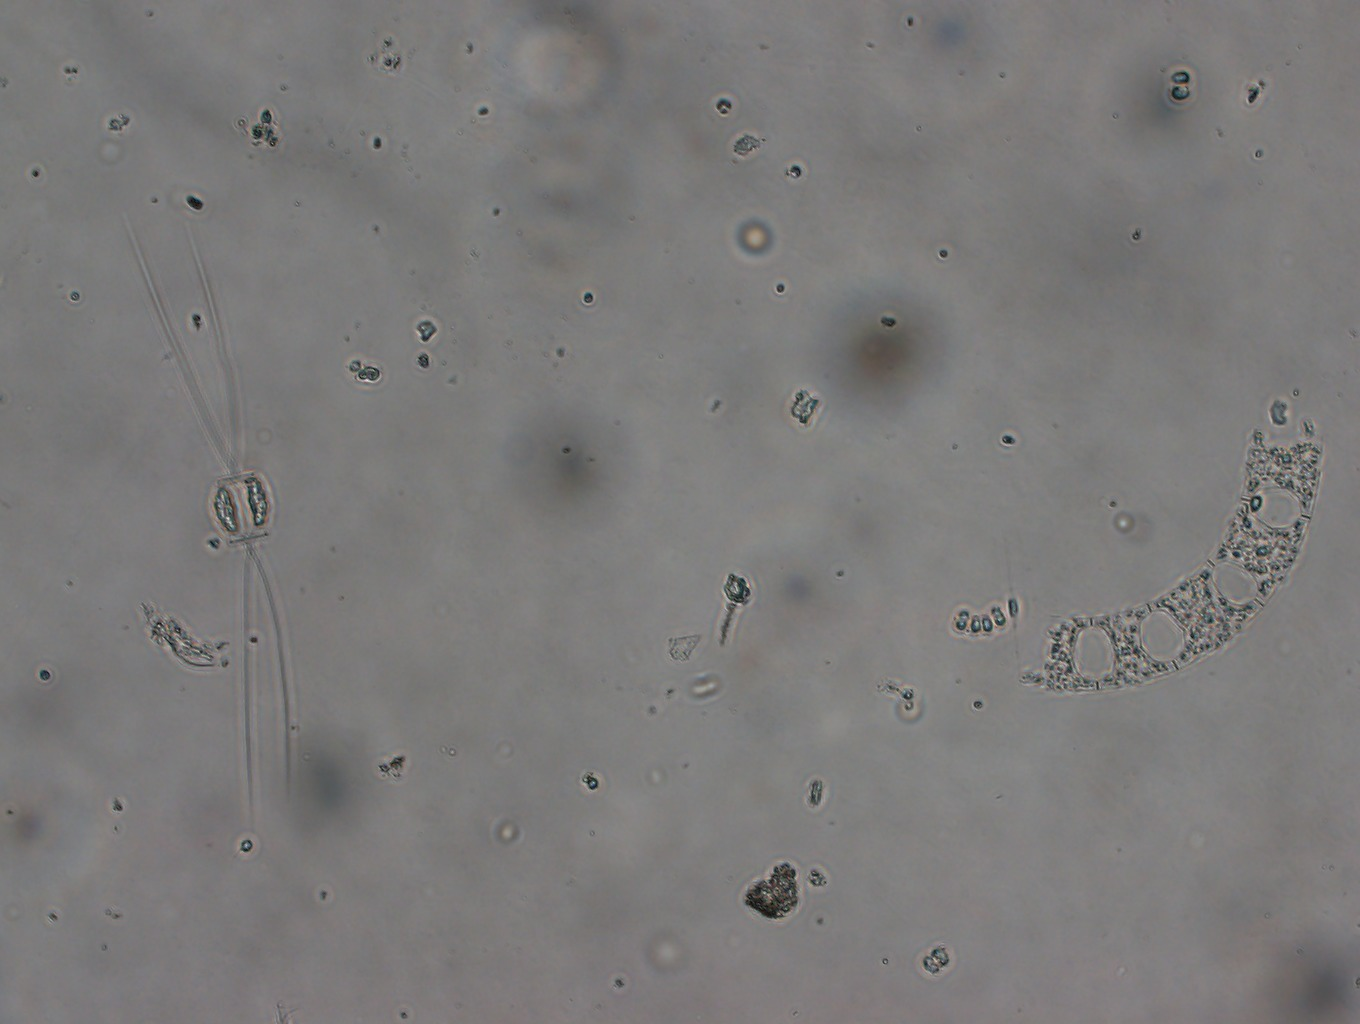chaetoceros: (112, 205, 316, 827)
eucampia: (1013, 376, 1330, 700)
